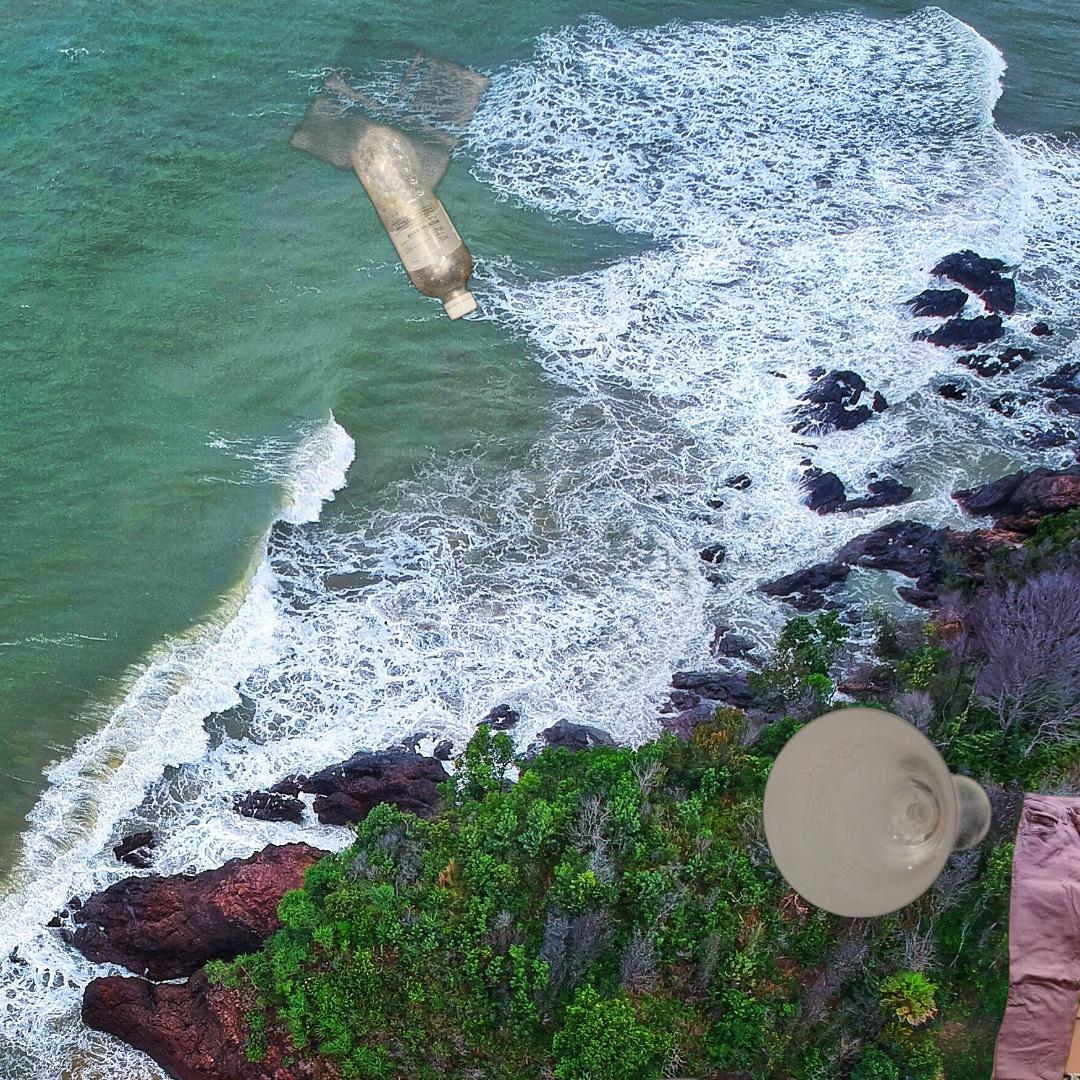battery: (617, 1074, 739, 1080)
clothes: (982, 787, 1080, 1080)
glass: (757, 703, 998, 922)
metal-cans: (948, 1000, 1080, 1080)
plastic-bottles: (285, 15, 502, 327)
